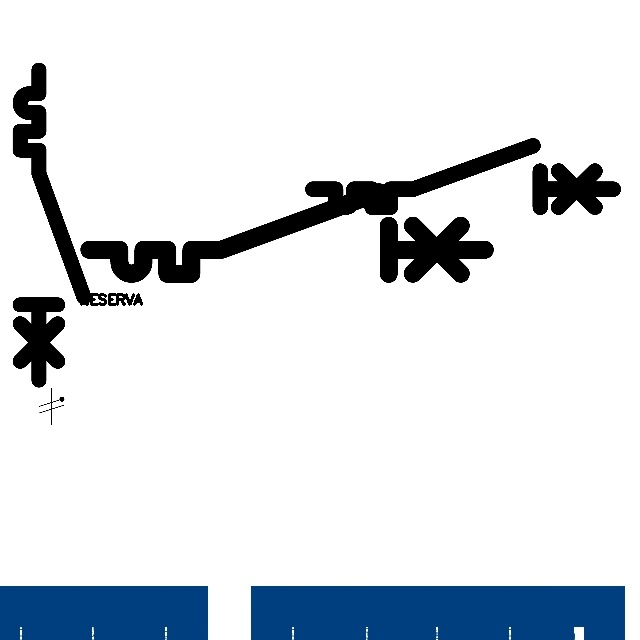interruptor_termomagnetico: (79, 182, 495, 284), (12, 62, 91, 388), (305, 138, 621, 215)
